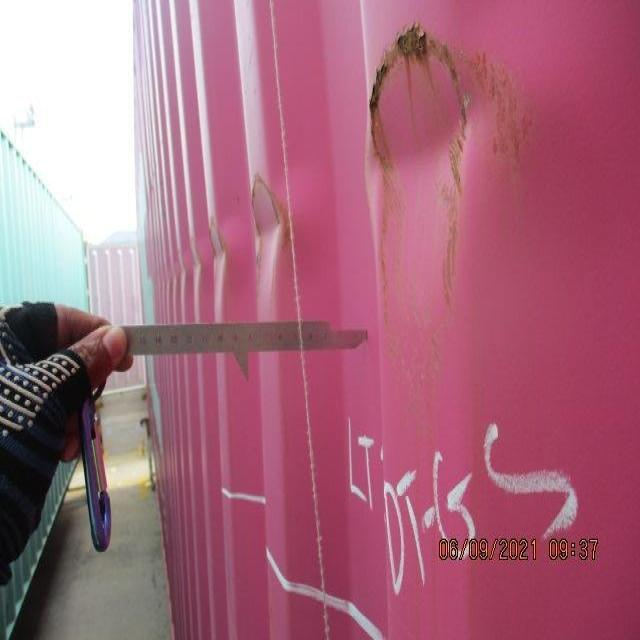dent: (181, 28, 565, 365)
